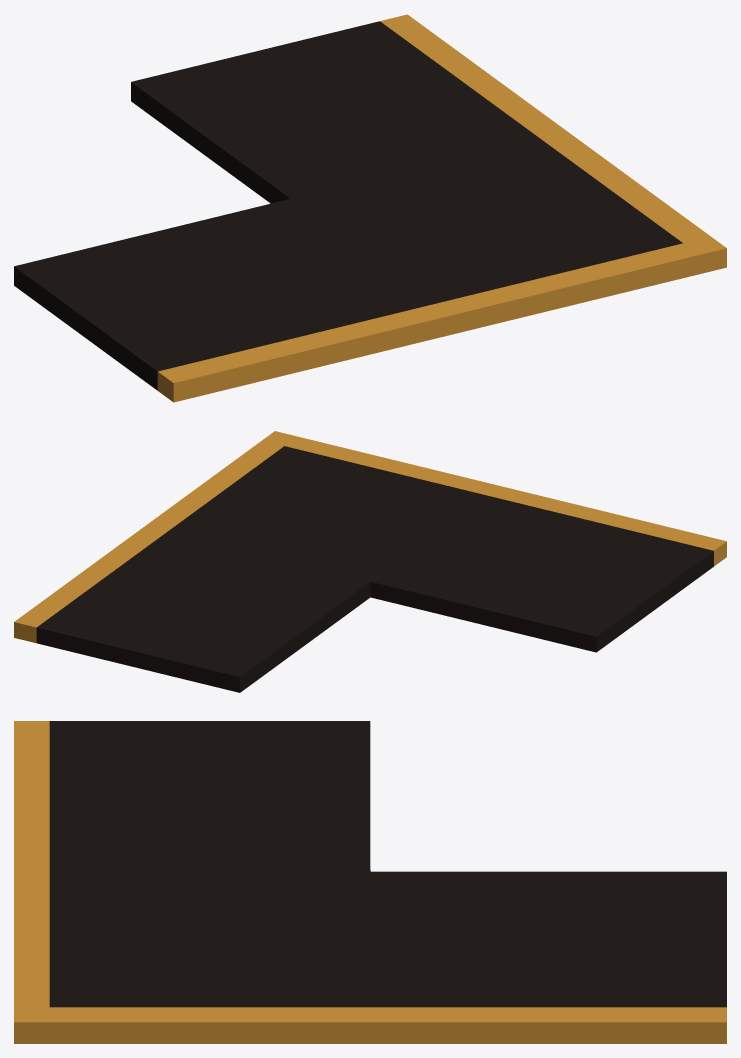
The model's file is Side floor.FBX.
The picture shows the model from 3 angles, top to bottom: view 1: azimuth 30°, elevation 25°; view 2: azimuth 150°, elevation 25°; view 3: azimuth 270°, elevation 25°; orthographic projection. The views are drawn at different scales.
Parts seen in each view (by area): view 1: Box012; view 2: Box012; view 3: Box012.
Part boxes in pixels (<box>): Box012: <box>14,14,726,402</box>; Box012: <box>14,431,726,692</box>; Box012: <box>14,721,726,1043</box>.
Size of the model in its own units: 10 by 0.334 by 10.
